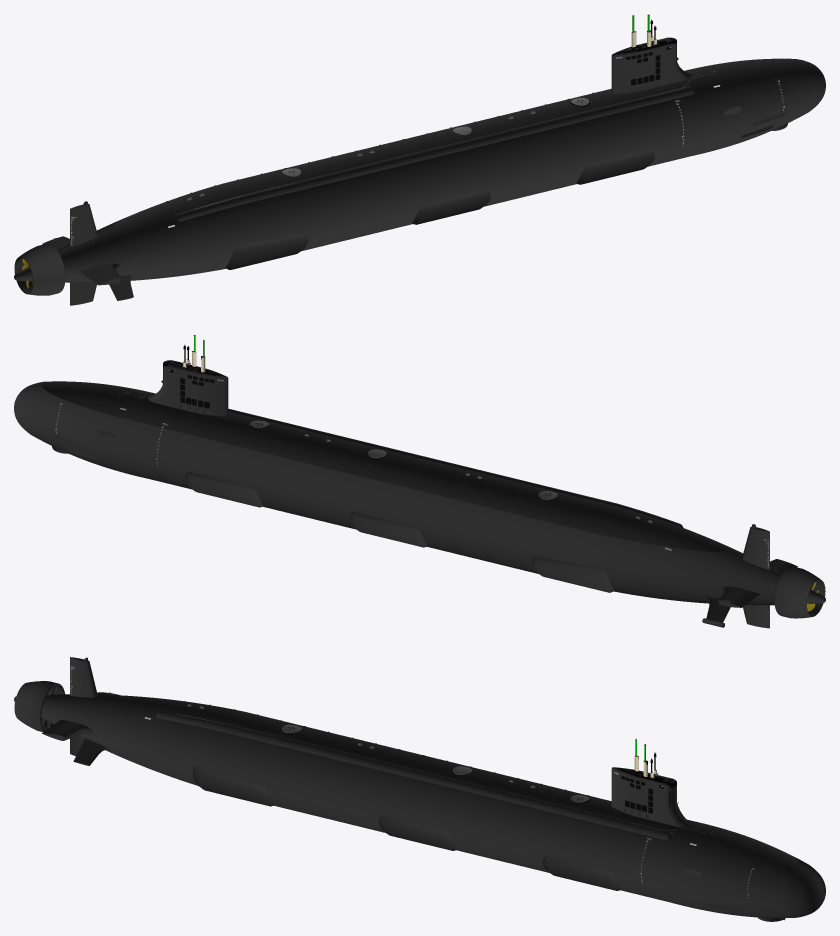
3 renders of one model, top to bottom at view 1: azimuth 30°, elevation 25°; view 2: azimuth 150°, elevation 25°; view 3: azimuth 330°, elevation 25°, orthographic.
Visible parts, largest first — view 1: Object_13, Object_15, Object_10, Object_5, Object_8, Object_14, Object_34, Object_11, Object_12, Object_6; view 2: Object_13, Object_15, Object_10, Object_12, Object_5, Object_14, Object_8, Object_6, Object_11; view 3: Object_13, Object_15, Object_10, Object_5, Object_14, Object_8, Object_34, Object_11, Object_12, Object_6.
Part boxes in pixels (left/top/right/bottom): Object_13: left=57, top=37, right=825, bottom=282; Object_15: left=114, top=59, right=795, bottom=228; Object_10: left=113, top=14, right=798, bottom=229; Object_5: left=161, top=92, right=741, bottom=269; Object_8: left=14, top=96, right=744, bottom=295; Object_14: left=611, top=15, right=787, bottom=130; Object_34: left=142, top=86, right=694, bottom=227; Object_11: left=14, top=95, right=785, bottom=300; Object_12: left=54, top=125, right=773, bottom=305; Object_6: left=127, top=61, right=758, bottom=222; Object_13: left=14, top=360, right=782, bottom=583; Object_15: left=44, top=381, right=724, bottom=551; Object_10: left=41, top=335, right=729, bottom=606; Object_12: left=249, top=435, right=776, bottom=628; Object_5: left=98, top=418, right=678, bottom=592; Object_14: left=52, top=340, right=228, bottom=453; Object_8: left=95, top=424, right=825, bottom=618; Object_6: left=80, top=367, right=712, bottom=547; Object_11: left=54, top=418, right=825, bottom=625; Object_13: left=41, top=694, right=825, bottom=920; Object_15: left=115, top=696, right=797, bottom=866; Object_10: left=113, top=696, right=798, bottom=866; Object_5: left=161, top=700, right=701, bottom=890; Object_14: left=611, top=739, right=785, bottom=921; Object_8: left=14, top=681, right=705, bottom=882; Object_34: left=128, top=706, right=673, bottom=840; Object_11: left=14, top=686, right=751, bottom=903; Object_12: left=70, top=657, right=742, bottom=911; Object_6: left=127, top=697, right=759, bottom=853.
Size of the model in its own units: 376 by 67.52 by 45.41.
Materials: 19 (13 with a texture image).
